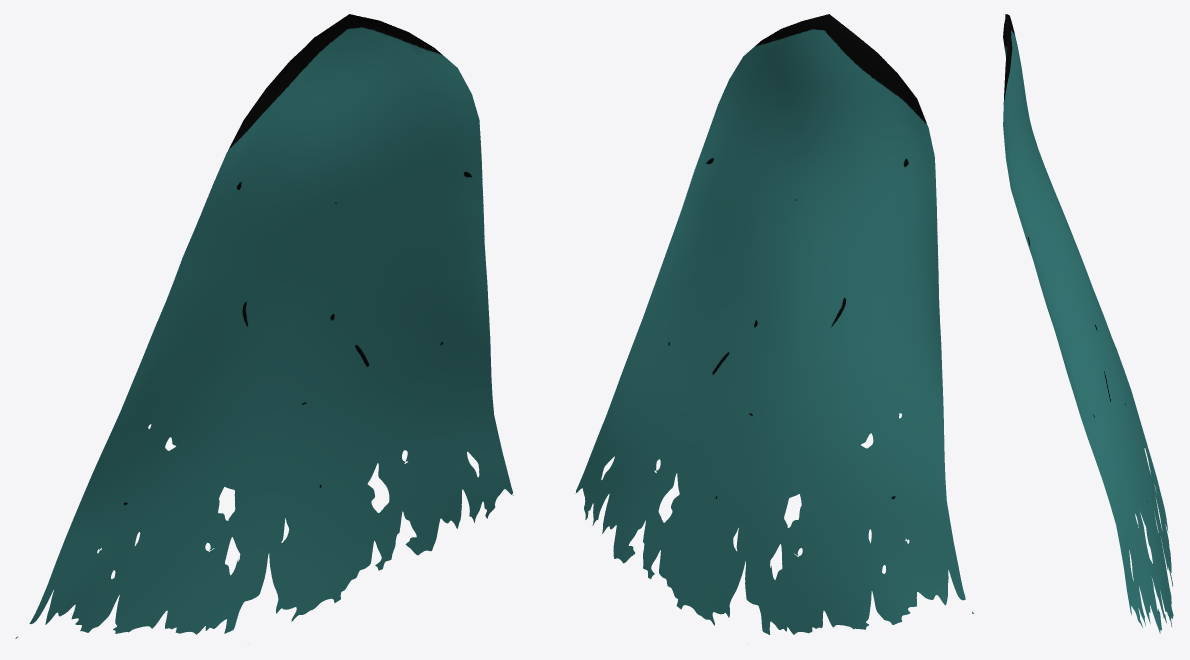
File: CAPA.FBX
The picture shows the model from 3 angles, left to right: view 1: azimuth 30°, elevation 25°; view 2: azimuth 150°, elevation 25°; view 3: azimuth 270°, elevation 25°; orthographic projection. The views are drawn at different scales.
Parts seen in each view (by area): view 1: CAPAMC; view 2: CAPAMC; view 3: CAPAMC.
Part boxes in pixels (x1,y1,x2,y2): CAPAMC: (15,14,513,638); CAPAMC: (575,14,973,644); CAPAMC: (1003,14,1173,633).
Bounding box in the file's own units: 59.16 × 77.33 × 20.33.
1 material, 1 textured.
